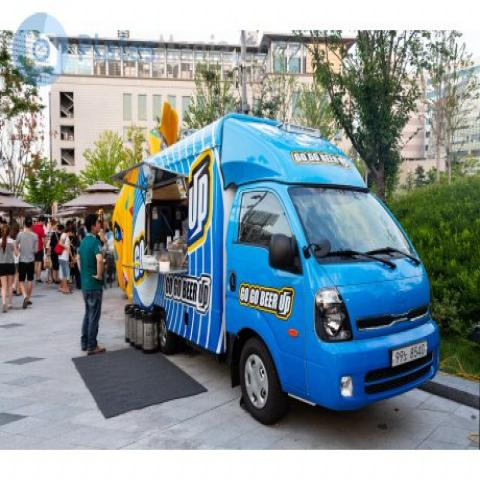LP: (387, 333, 431, 373)
